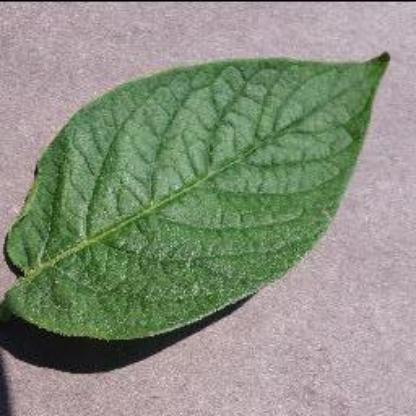Healthy-plant: (5, 47, 391, 344)
